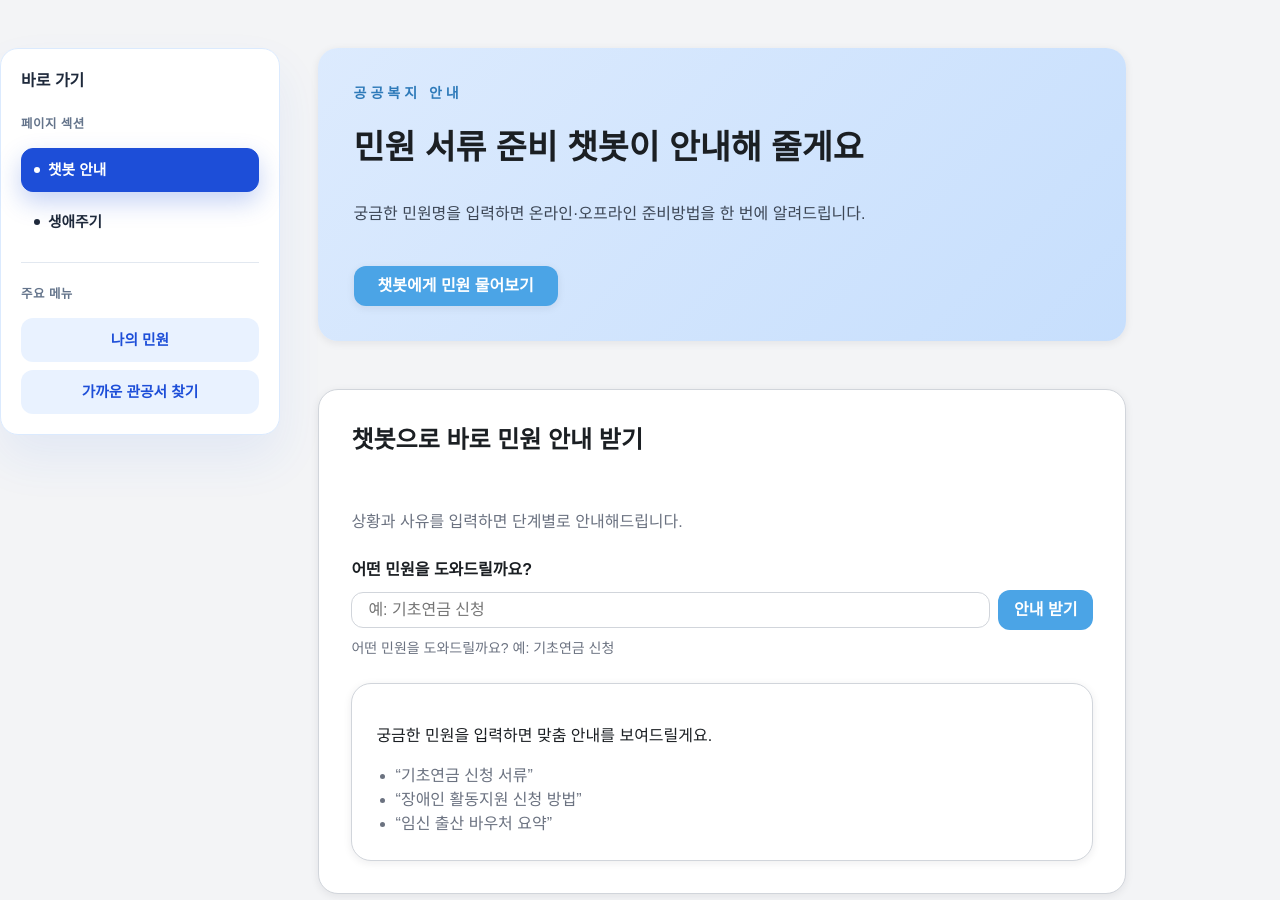
HomePage chatbot guidance › guides residents with online steps after entering a known service
The width and height of the screenshot is (1280, 900).
Step 1. Type "기초연금 신청" into the field labelled "어떤 민원을 도와드릴까요?" → (671, 610), box [351,592,990,628]
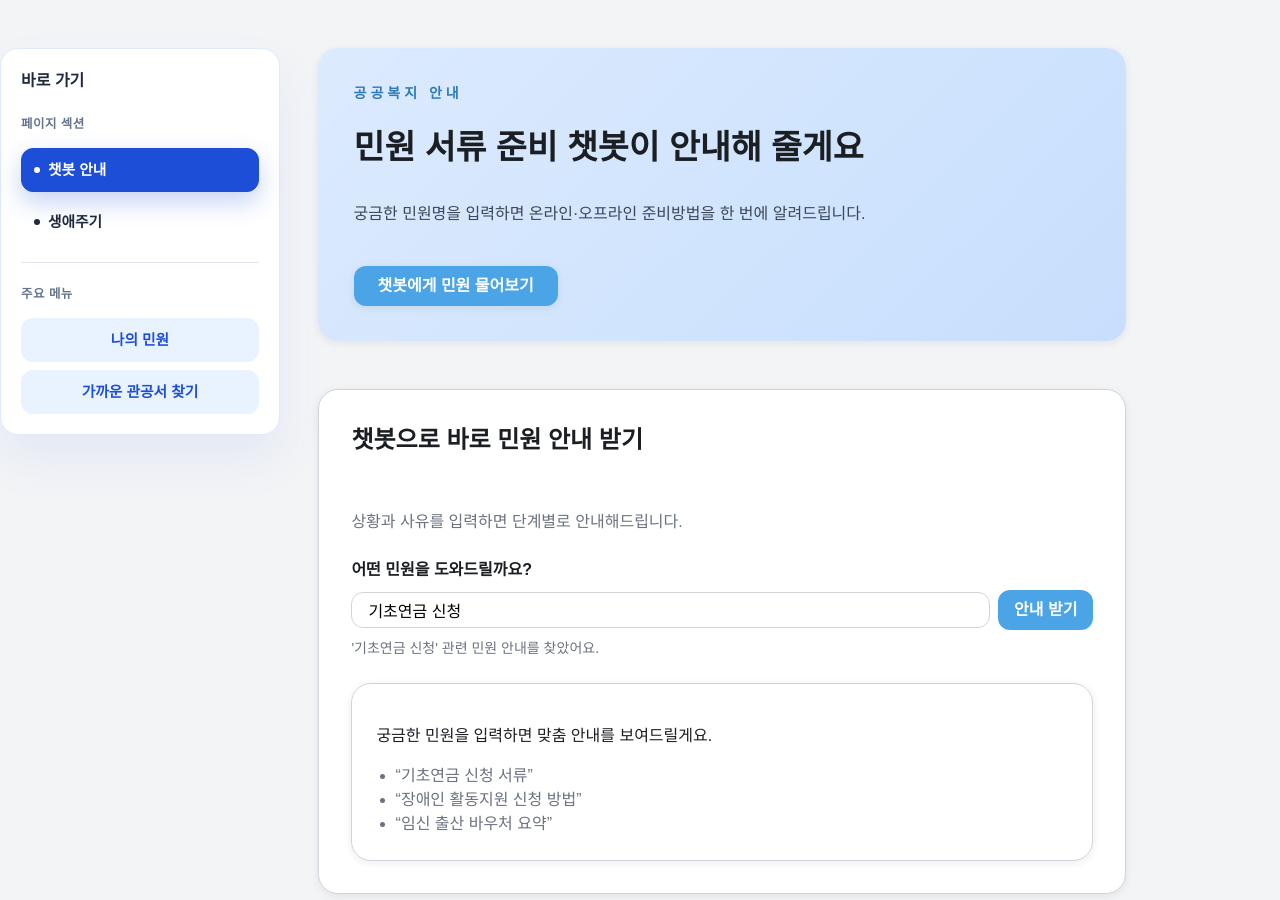
Step 2. Submit the form labelled "어떤 민원을 도와드릴까요?", box [351,558,1093,659]
(page scrolled)
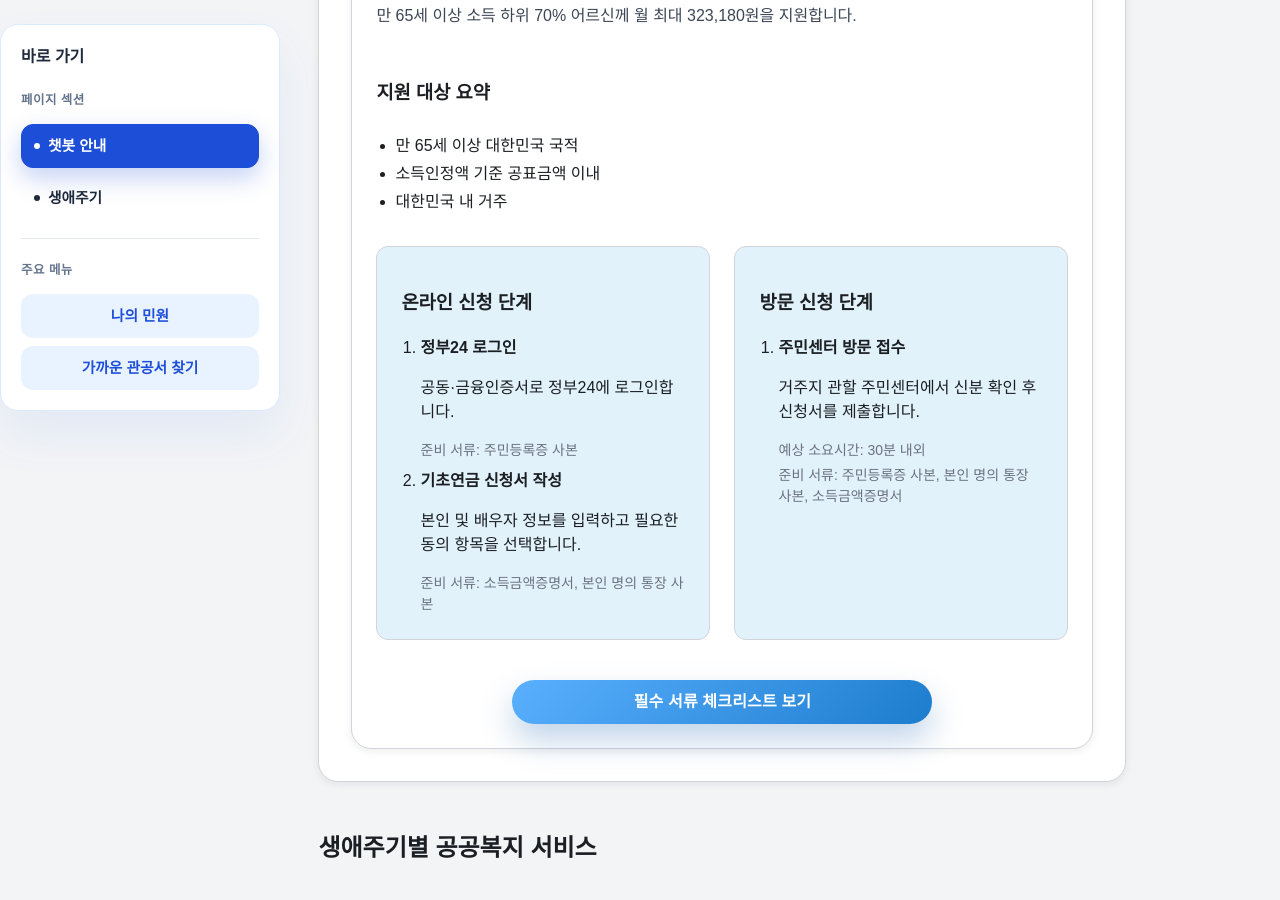
Result: the heading "온라인 신청 단계" is shown at [401,292,532,313]
Result: the heading "방문 신청 단계" is shown at [759,292,873,313]
Result: the text "준비 서류: 주민등록증 사본" is shown at [421,442,578,458]
